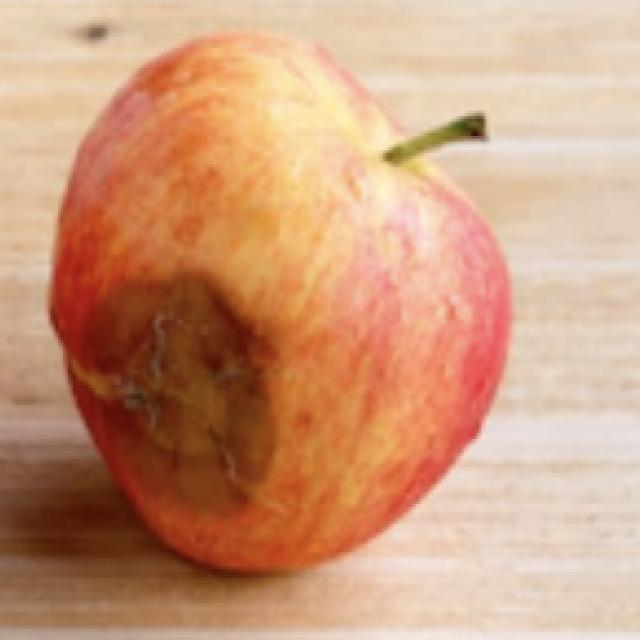Rotten: (62, 48, 530, 582)
